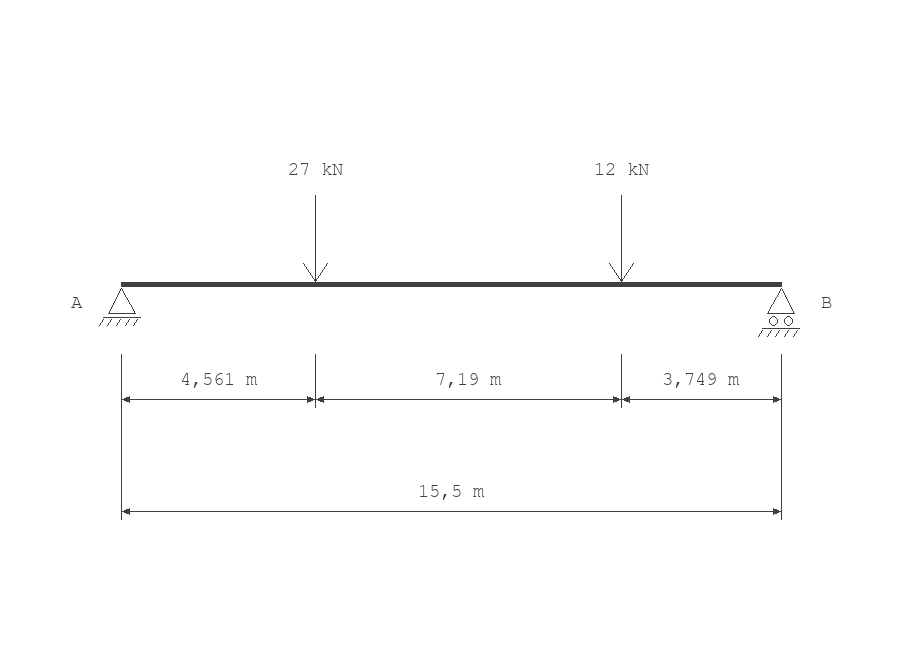pin_support: (99, 288, 141, 326)
point_load: (303, 195, 328, 282), (609, 195, 634, 282)
roller_support: (758, 288, 800, 337)
